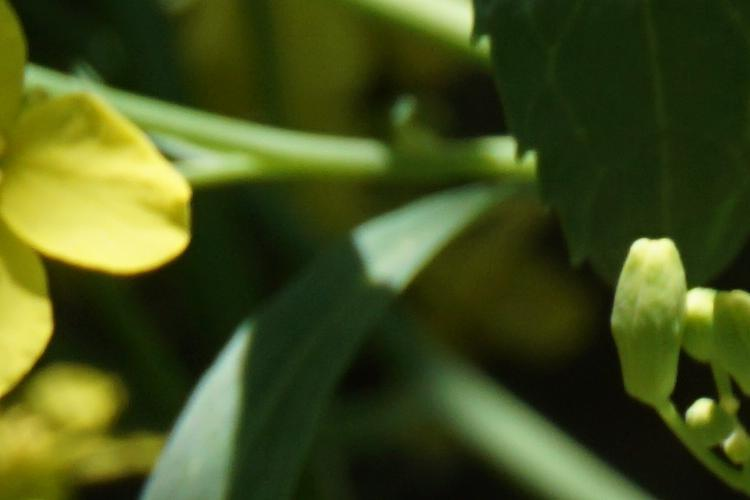bud: (620, 238, 682, 398), (715, 293, 750, 391), (673, 285, 717, 355), (684, 390, 737, 448), (724, 422, 750, 469)
